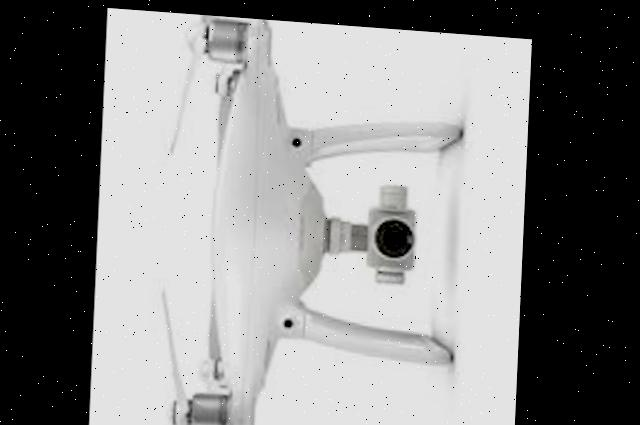drone: (124, 8, 532, 425)
